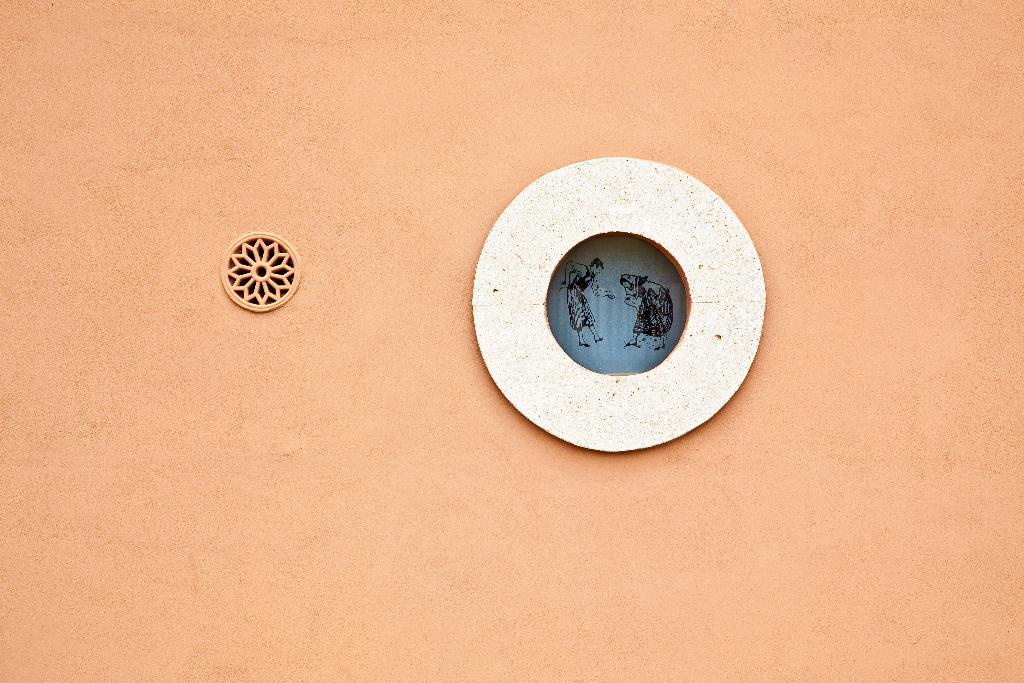plate: (470, 156, 764, 452)
